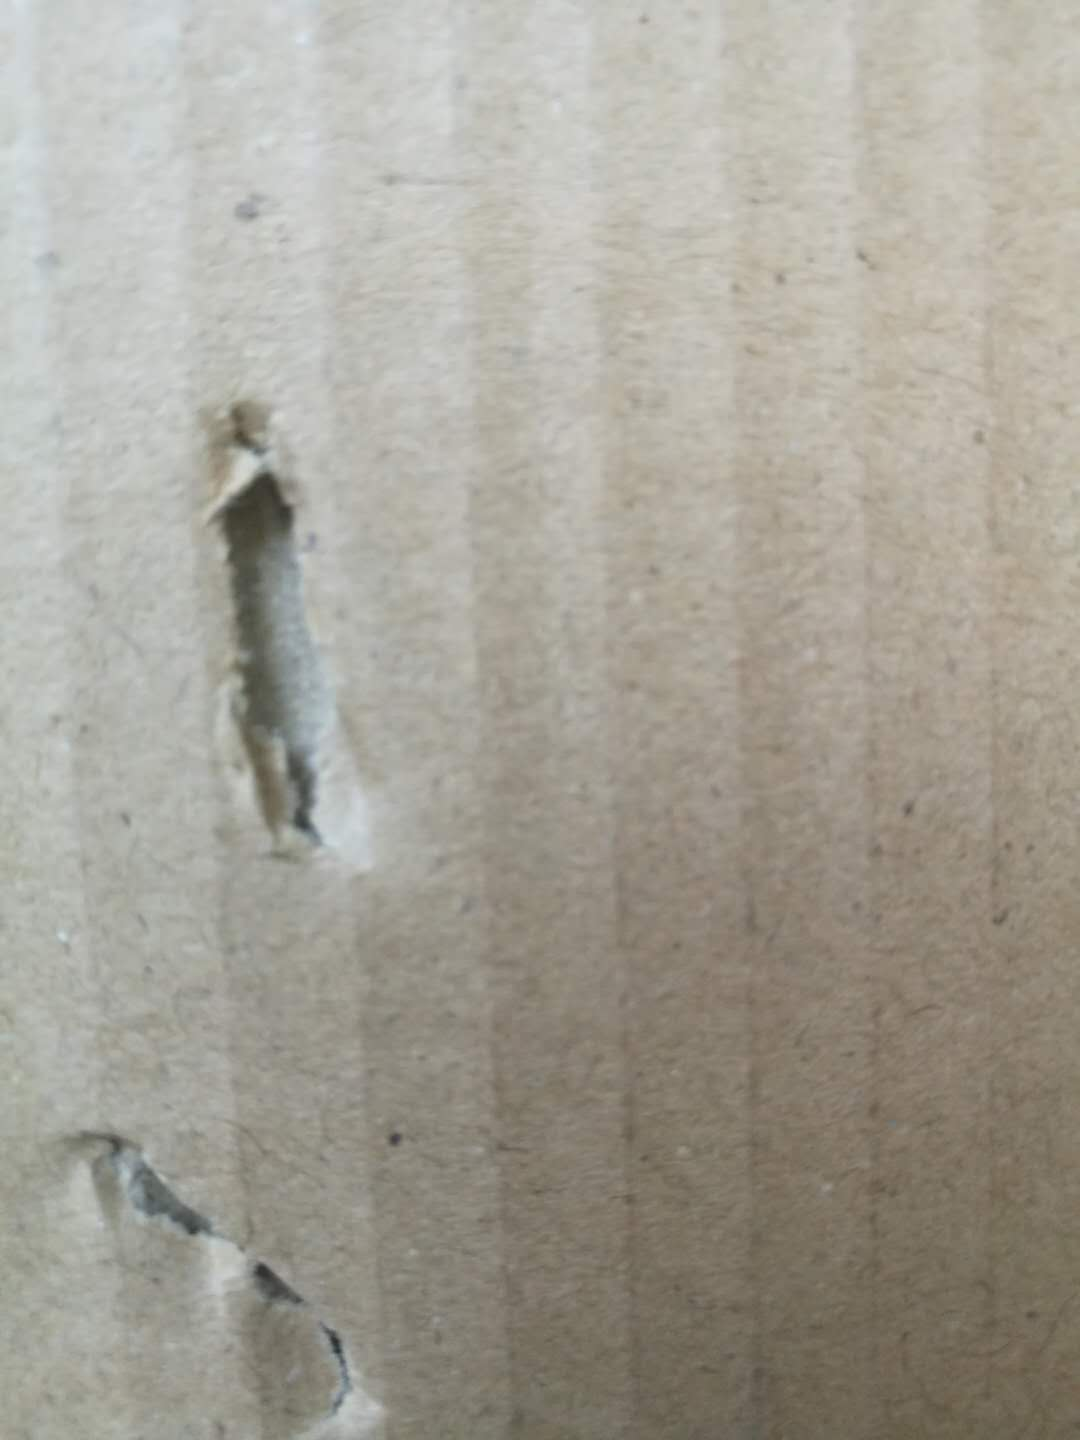defect: (145, 339, 428, 890), (15, 1087, 430, 1440)
